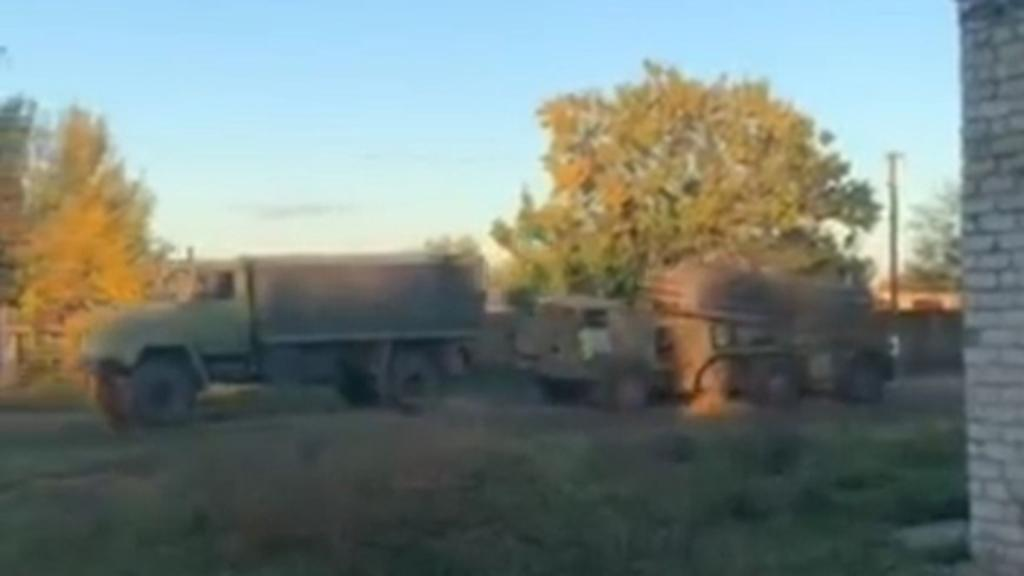MLRS: (516, 254, 886, 416)
TRUCK: (80, 252, 486, 428)
